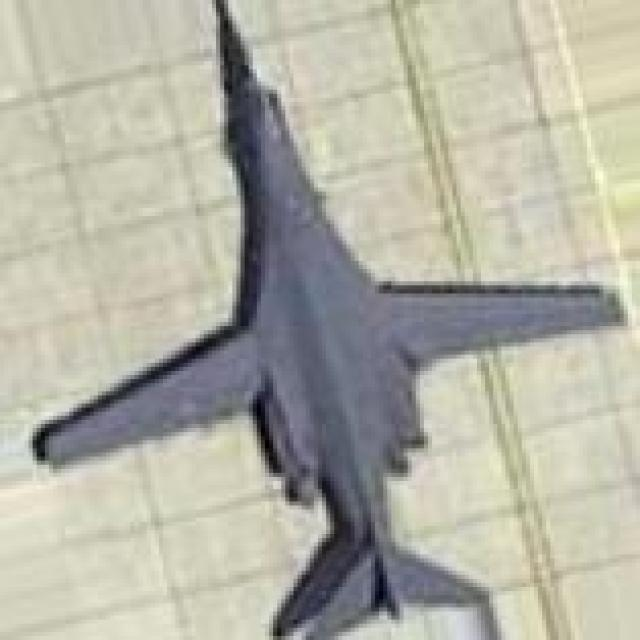B-1_TopDown: (28, 0, 628, 636)
